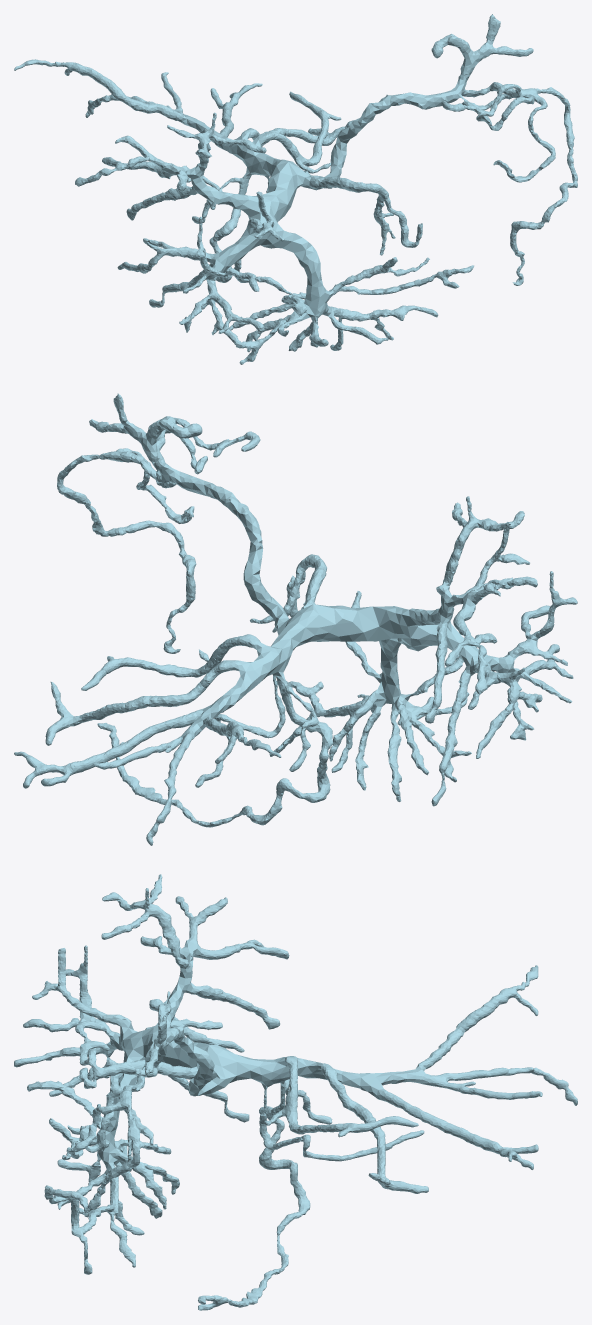
File: portalvein.obj
3 views of the same model, one above another, from view 1: azimuth 30°, elevation 25°; view 2: azimuth 150°, elevation 25°; view 3: azimuth 270°, elevation 25° (orthographic). The views are drawn at different scales.
Visible parts, largest first — view 1: grp1; view 2: grp1; view 3: grp1.
Boxes of the visible parts, left/top/right/bottom form: grp1: left=14, top=14, right=577, bottom=364; grp1: left=14, top=393, right=577, bottom=845; grp1: left=14, top=874, right=577, bottom=1310.
Size of the model in its own units: 245 by 161 by 258.
